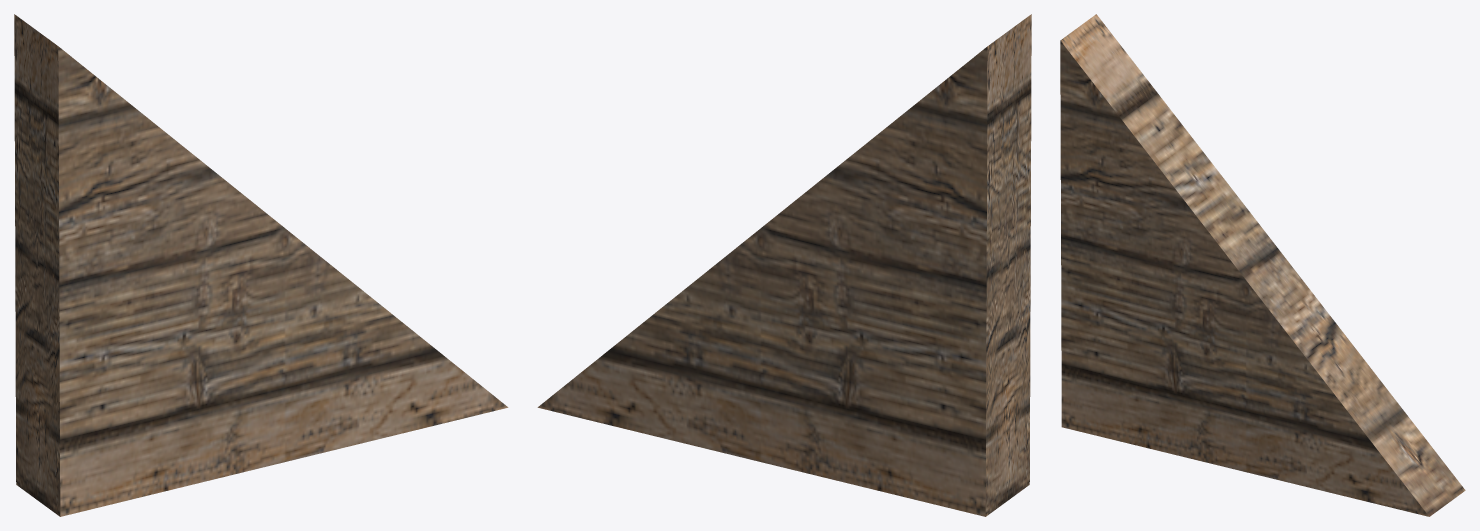
The model's file is Wood 45.glb.
3 views of the same model, side by side, from view 1: azimuth 30°, elevation 25°; view 2: azimuth 150°, elevation 25°; view 3: azimuth 330°, elevation 25° (orthographic). The views are drawn at different scales.
Parts seen in each view (by area): view 1: Plane; view 2: Plane; view 3: Plane.
Part boxes in pixels (<box>): Plane: <box>14,14,508,516</box>; Plane: <box>537,14,1031,516</box>; Plane: <box>1060,14,1465,516</box>.
Size of the model in its own units: 1.46 by 1.46 by 0.2486.
Materials: 1 (1 with a texture image).
